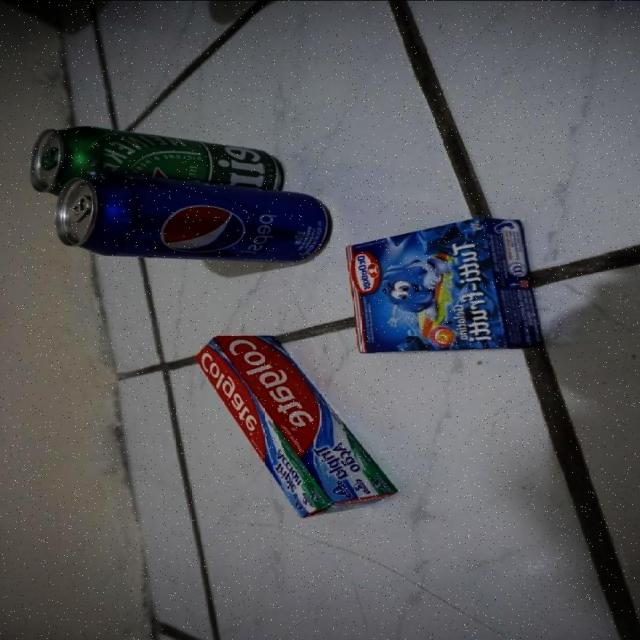BeerCan: (27, 126, 298, 176)
Gelatine: (344, 216, 548, 353)
SodaCan: (55, 176, 326, 264)
Toothpaste: (194, 334, 340, 518)
